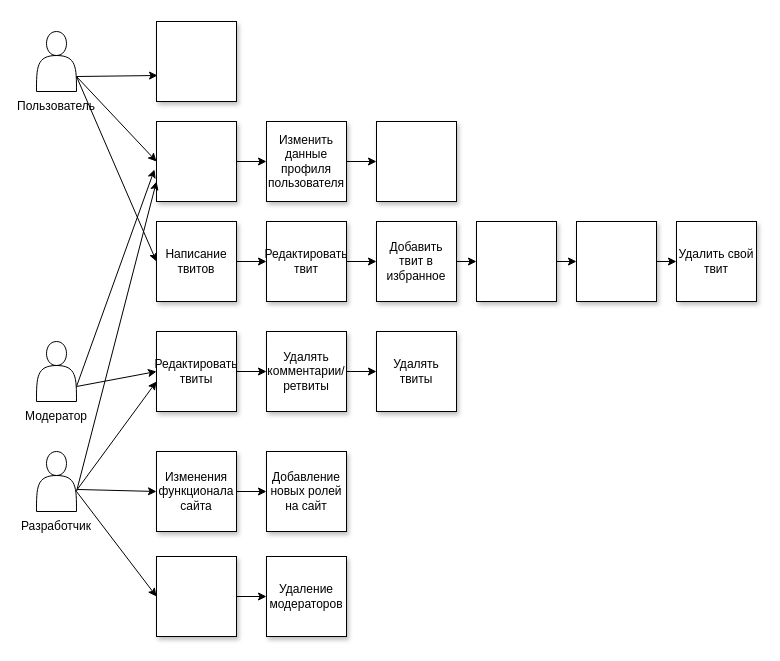
Image size: 780x661. Some labels were removed from this diagram. Each missing label, with the centre of its shape:
"Вход в систему" goes at pixel 197 162.
"Изменение доступов модераторов" goes at pixel 197 598.
"Комментировать твиты" goes at pixel 517 262.
"Регистрация" goes at pixel 197 62.
"Ретвитить" goes at pixel 617 262.
"Удалить аккаунт пользователя" goes at pixel 417 162.
